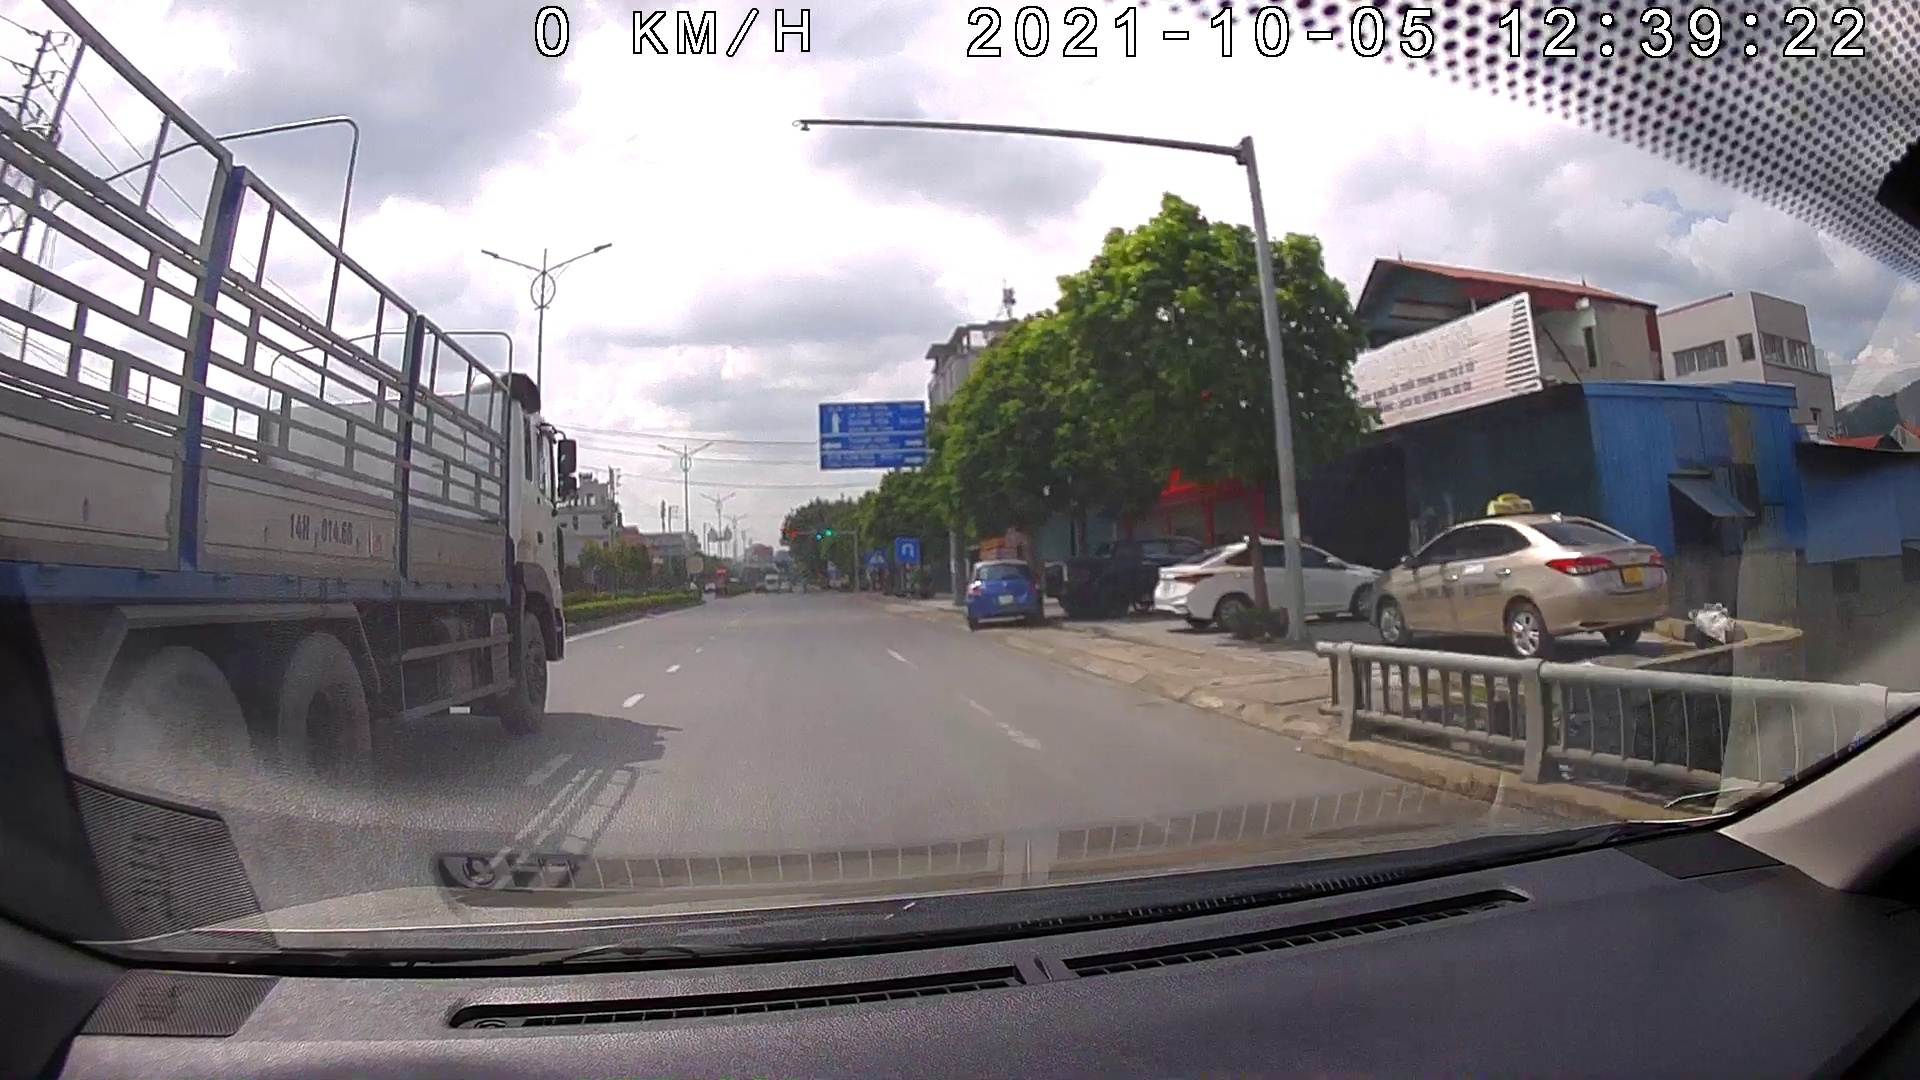Bien khac: (895, 533, 920, 567)
Nguoi di bo: (864, 545, 885, 564)
